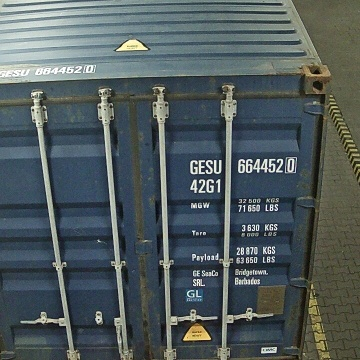serial_id: (190, 157, 296, 174)
